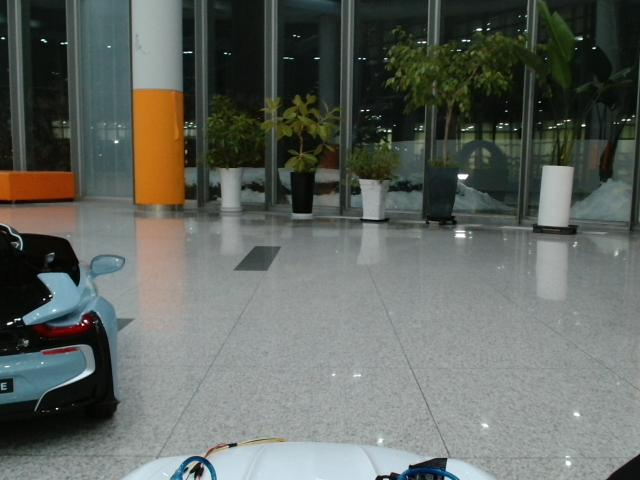car: (1, 223, 126, 440)
